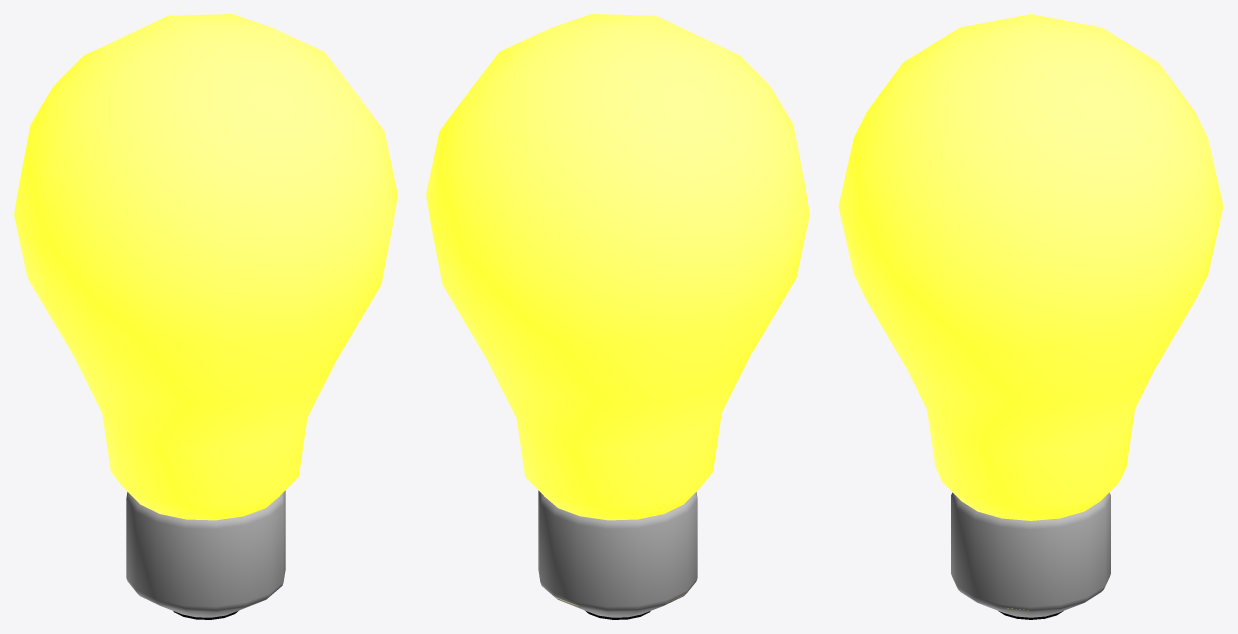
The model's file is lowPolyLightbulb.glb.
3 views of the same model, side by side, from view 1: azimuth 30°, elevation 25°; view 2: azimuth 150°, elevation 25°; view 3: azimuth 270°, elevation 25° (orthographic).
Parts seen in each view (by area): view 1: #LMP0003_Light_Bulb_Low_Poly_#LMP0003_Textures_0; view 2: #LMP0003_Light_Bulb_Low_Poly_#LMP0003_Textures_0; view 3: #LMP0003_Light_Bulb_Low_Poly_#LMP0003_Textures_0.
Boxes of the visible parts, x1=… form: #LMP0003_Light_Bulb_Low_Poly_#LMP0003_Textures_0: x1=14, y1=14, x2=397, y2=619; #LMP0003_Light_Bulb_Low_Poly_#LMP0003_Textures_0: x1=426, y1=14, x2=809, y2=619; #LMP0003_Light_Bulb_Low_Poly_#LMP0003_Textures_0: x1=838, y1=14, x2=1223, y2=619.
Bounding box in the file's own units: 0.0753 × 0.1256 × 0.0753.
1 material, 1 textured.
